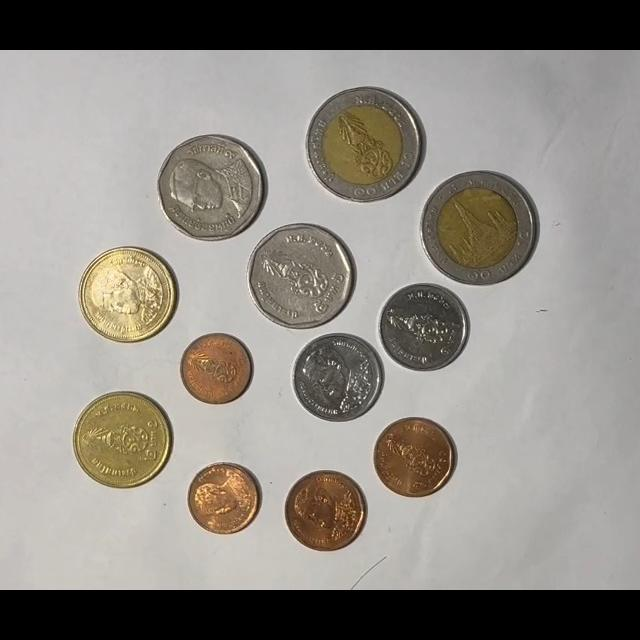1-baht: (378, 282, 469, 373), (291, 333, 383, 423)
10-baht: (305, 86, 424, 204), (420, 171, 538, 286)
2-baht: (78, 246, 176, 344), (73, 392, 172, 489)
25-satang: (187, 462, 262, 536), (180, 333, 253, 405)
5-baht: (157, 134, 266, 242), (247, 223, 356, 331)
50-satang: (284, 470, 368, 553), (373, 417, 456, 498)
